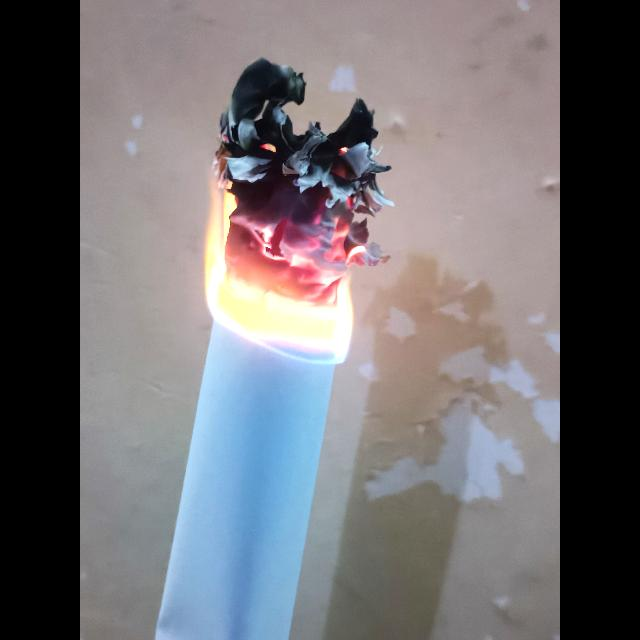fire: (207, 60, 392, 362)
